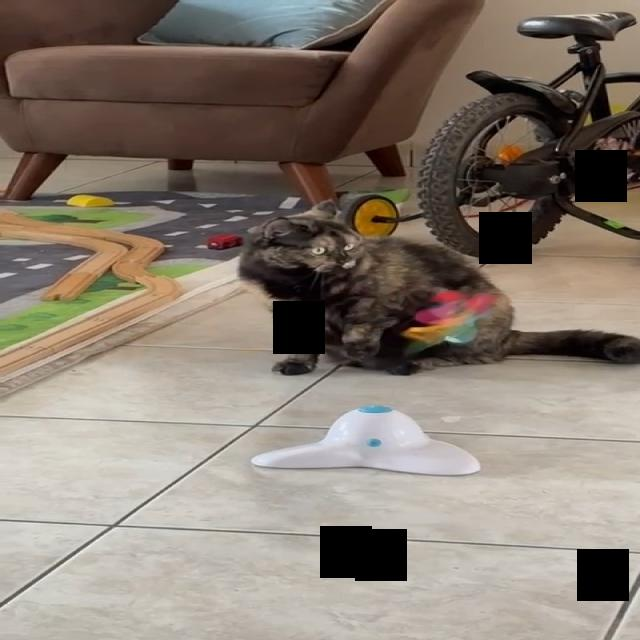authorized: (236, 202, 639, 377)
